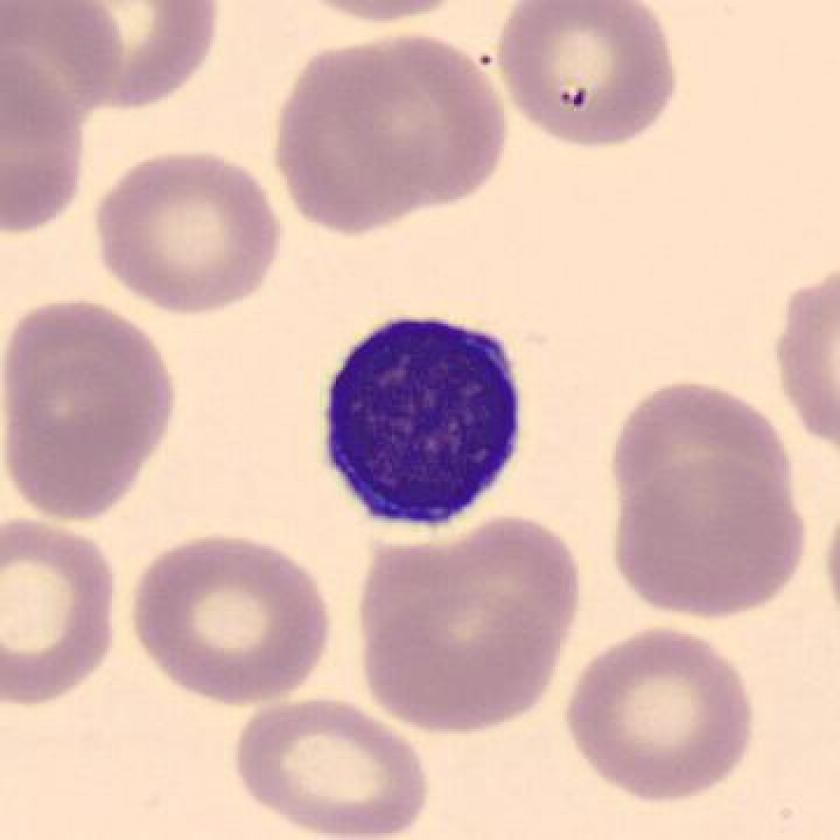lymphocyte: (309, 300, 540, 550)
